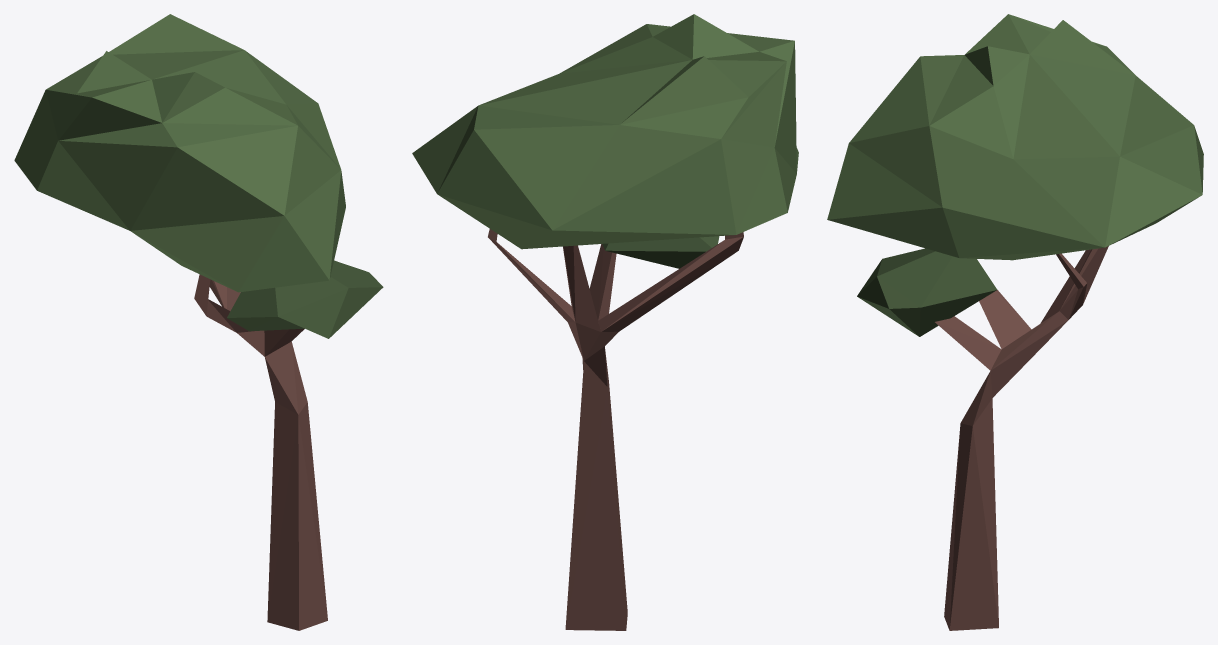
File: CommonTree_4.lod3.glb
3 views of the same model, side by side, from view 1: azimuth 30°, elevation 25°; view 2: azimuth 150°, elevation 25°; view 3: azimuth 270°, elevation 25° (orthographic). The views are drawn at different scales.
Visible parts, largest first — view 1: CommonTree_4; view 2: CommonTree_4; view 3: CommonTree_4.
Boxes of the visible parts, bbox=[...] form: CommonTree_4: bbox=[14, 14, 383, 630]; CommonTree_4: bbox=[412, 14, 798, 630]; CommonTree_4: bbox=[827, 14, 1203, 630].
Bounding box in the file's own units: 1.58 × 2.79 × 1.77.
